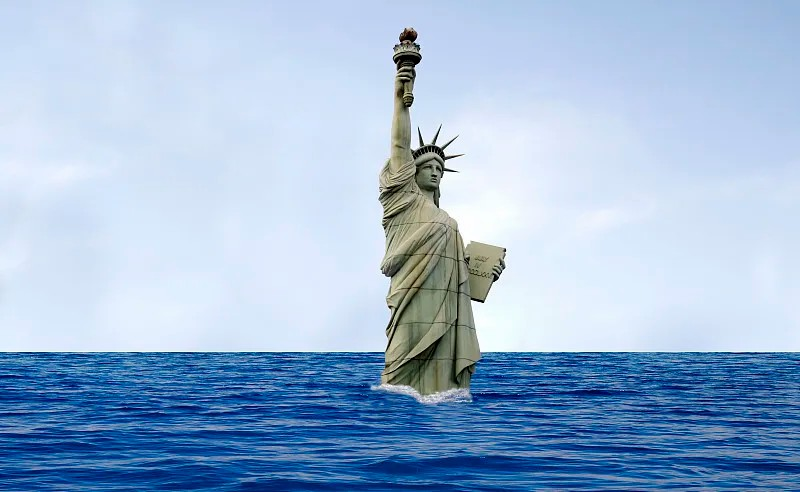SL: (378, 27, 506, 403)
